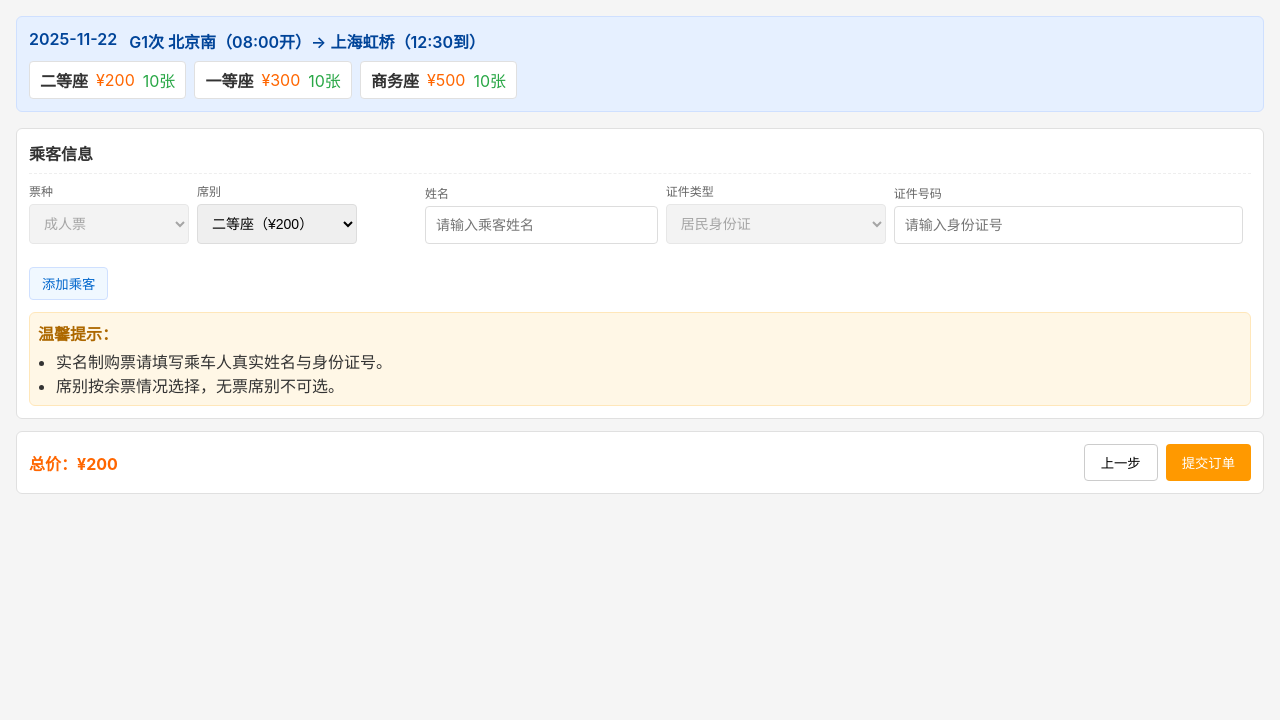
Scenario: P002_Booking 单元测试 - 票价计算 › 总价等于各乘客所选席别价格之和
expect the text "总价：¥200" is shown: met, box [29,450,118,474]
Click the button "添加乘客": (69, 284) [29,267,108,300]
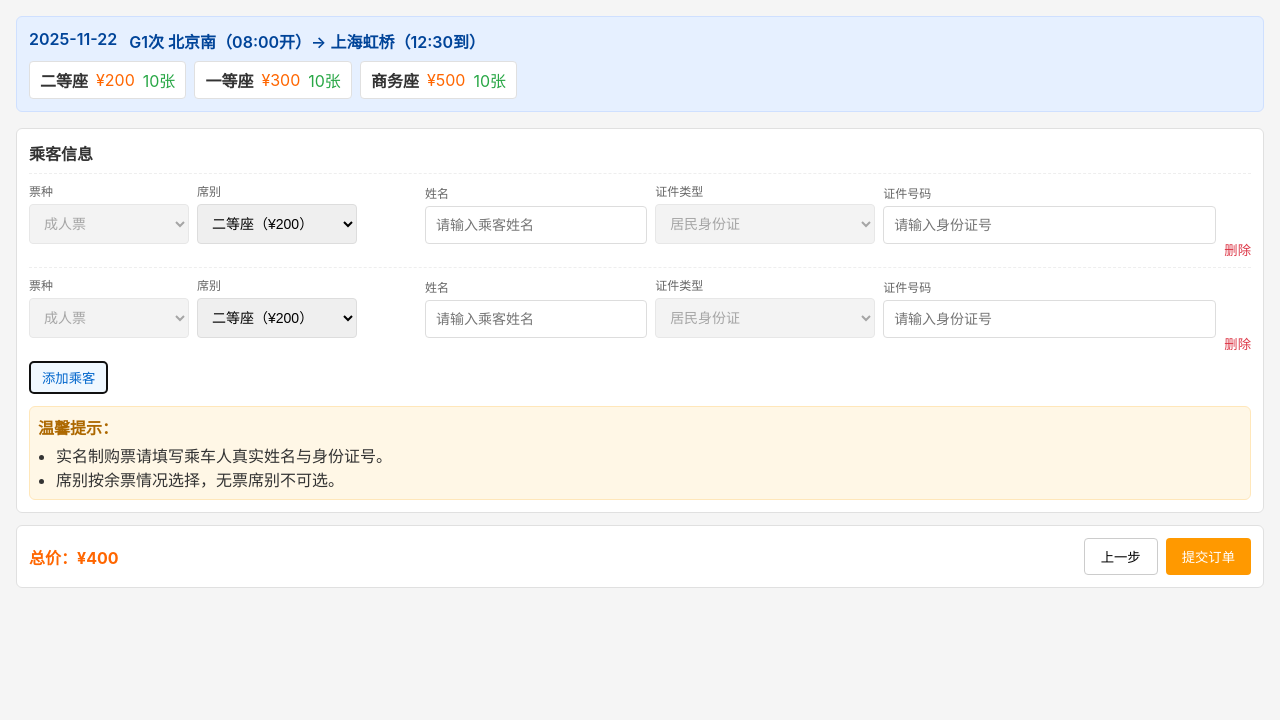
Select "一等座（¥300）" in the 2nd dropdown: (277, 224) [197,204,357,244]
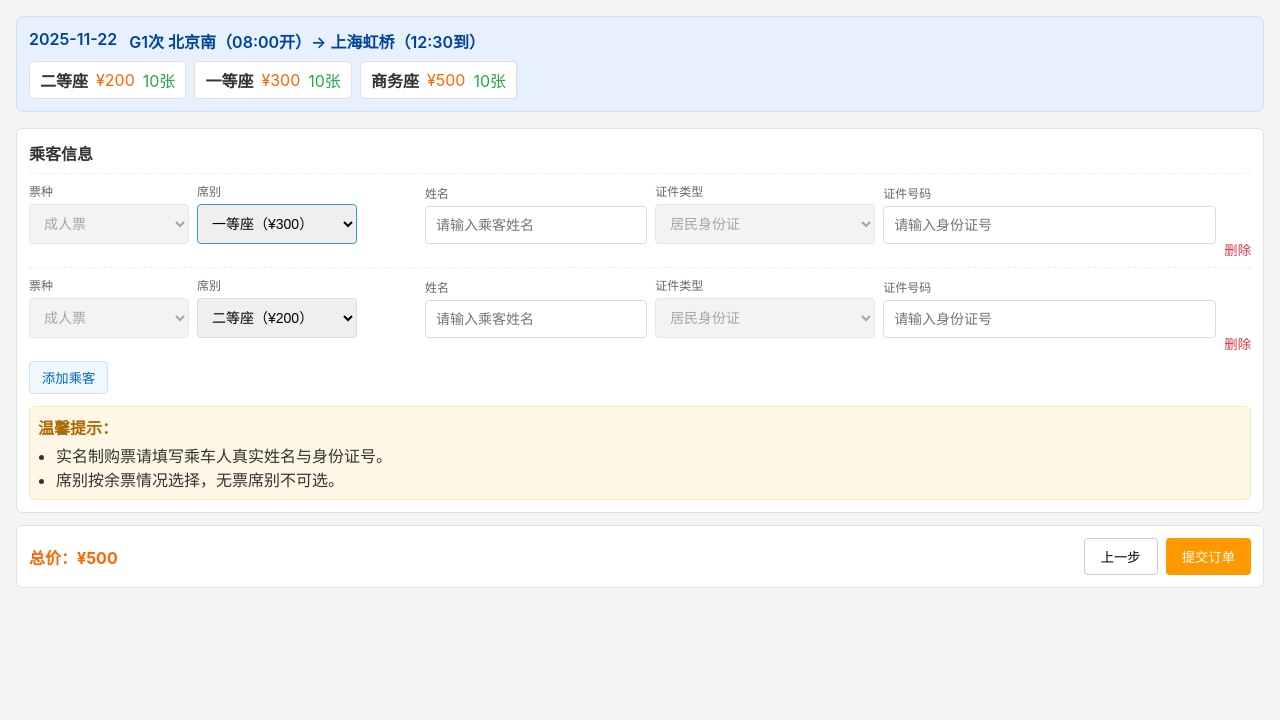
expect the text "总价：¥500" is shown: met, box [29,544,118,568]
